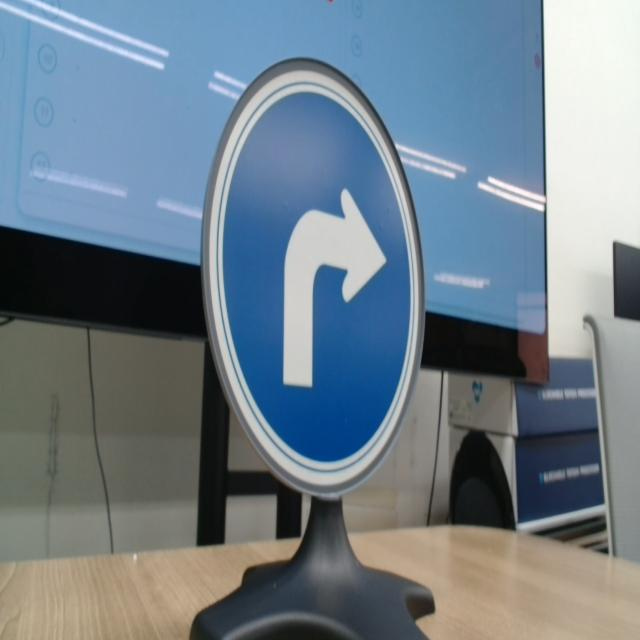right_dierection: (180, 23, 454, 526)
